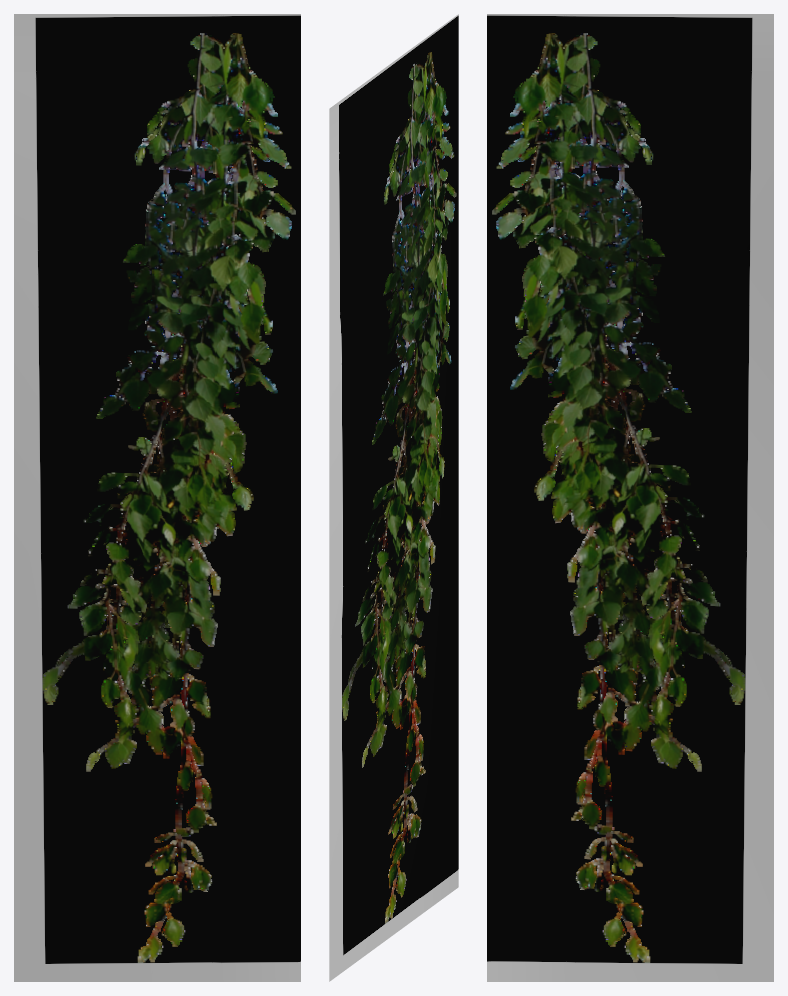
Rendered from MOD_Foliage_03.fbx.
3 renders of one model, left to right at view 1: azimuth 90°, elevation 25°; view 2: azimuth 150°, elevation 25°; view 3: azimuth 270°, elevation 25°, orthographic. The views are drawn at different scales.
Parts seen in each view (by area): view 1: MOD_Foliage_03; view 2: MOD_Foliage_03; view 3: MOD_Foliage_03.
Part boxes in pixels (x1,y1,x2,y2): MOD_Foliage_03: (14, 14, 300, 981); MOD_Foliage_03: (329, 14, 458, 981); MOD_Foliage_03: (487, 14, 773, 981).
Size of the model in its own units: 9.86 by 601 by 161.
